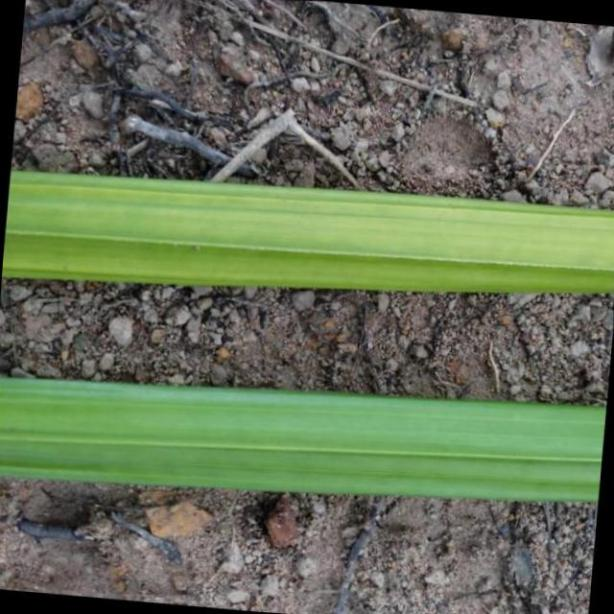nitrogen: (0, 161, 614, 296), (0, 376, 614, 500)
